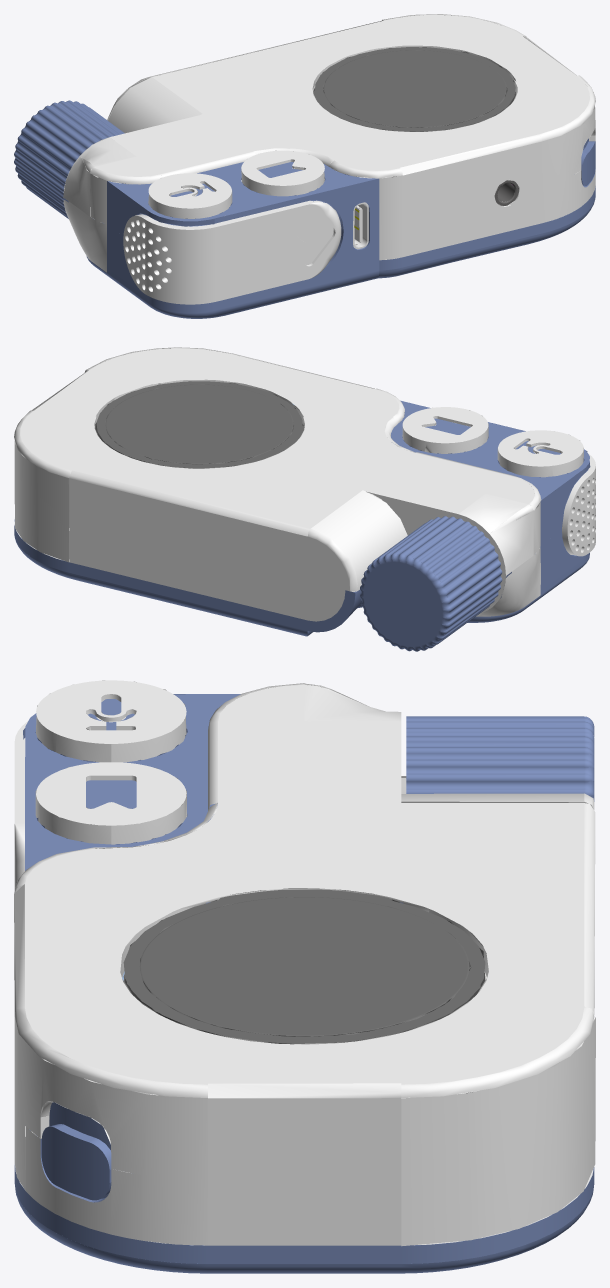
File: player_lite.glb
The picture shows the model from 3 angles, top to bottom: view 1: azimuth 30°, elevation 25°; view 2: azimuth 150°, elevation 25°; view 3: azimuth 270°, elevation 25°; orthographic projection. The views are drawn at different scales.
Visible parts, largest first — view 1: front_face, Back_Button, Body45, Body2.006, Buttonshell, knob, Save_button, Save_button__1_, Body1.034, on_off_switch, Body1.038, Body4.006; view 2: front_face, knob, Body2.006, Body45, Buttonshell, Save_button, Save_button__1_, Body1.034, Back_Button; view 3: front_face, Body2.006, Body45, knob, Save_button__1_, Save_button, Buttonshell, Body1.034, on_off_switch, Back_Button.
Boxes of the visible parts, x1,y1,x2,y2 form: front_face: [63, 14, 595, 260]; Back_Button: [123, 200, 341, 304]; Body45: [63, 169, 595, 318]; Body2.006: [324, 50, 506, 127]; Buttonshell: [107, 162, 379, 235]; knob: [14, 100, 124, 218]; Save_button: [148, 173, 232, 218]; Save_button__1_: [241, 150, 324, 196]; Body1.034: [313, 47, 515, 131]; on_off_switch: [581, 138, 595, 185]; Body1.038: [494, 180, 518, 206]; Body4.006: [353, 202, 368, 249]; front_face: [14, 347, 541, 621]; knob: [360, 516, 502, 651]; Body2.006: [105, 384, 293, 463]; Body45: [14, 519, 589, 636]; Buttonshell: [391, 400, 590, 544]; Save_button: [497, 430, 583, 477]; Save_button__1_: [402, 407, 488, 453]; Body1.034: [95, 381, 304, 468]; Back_Button: [562, 453, 595, 556]; front_face: [14, 683, 595, 1246]; Body2.006: [139, 897, 469, 1036]; Body45: [14, 902, 594, 1273]; knob: [406, 716, 594, 801]; Save_button__1_: [35, 762, 187, 844]; Save_button: [36, 680, 186, 762]; Buttonshell: [23, 694, 240, 870]; Body1.034: [123, 888, 485, 1044]; on_off_switch: [41, 1102, 111, 1200]; Back_Button: [14, 721, 27, 890].
Size of the model in its own units: 0.0952 by 0.024 by 0.0572.
